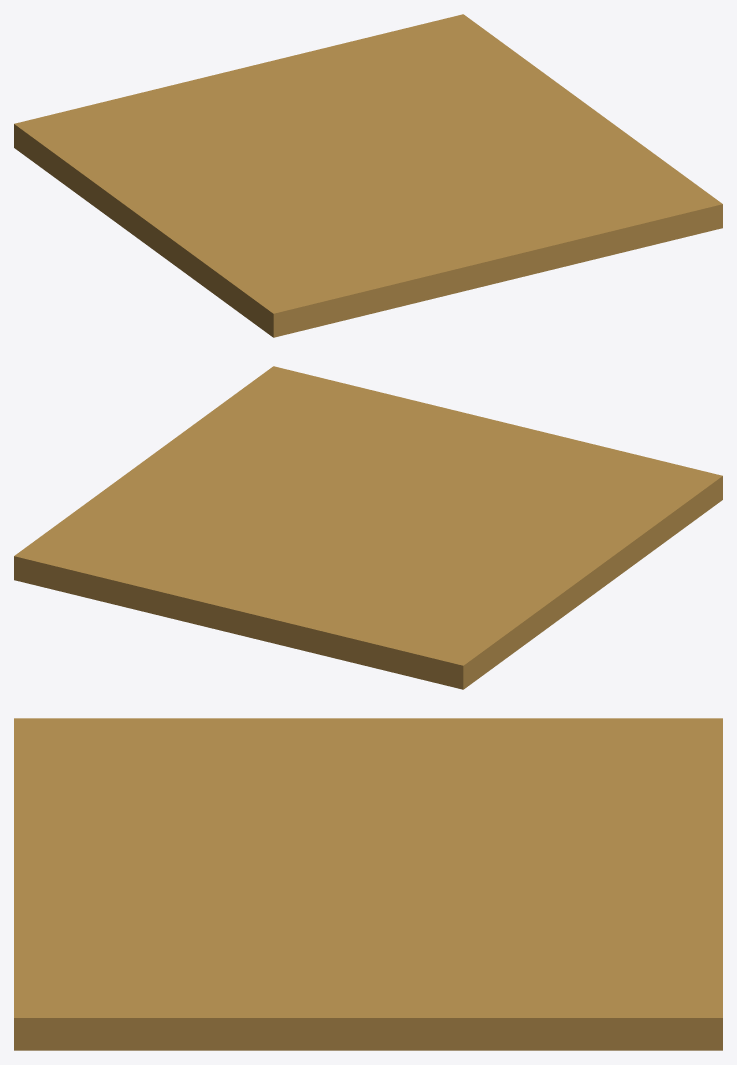
Rendered from Plateau_base_random.fbx.
The picture shows the model from 3 angles, top to bottom: view 1: azimuth 30°, elevation 25°; view 2: azimuth 150°, elevation 25°; view 3: azimuth 270°, elevation 25°; orthographic projection. The views are drawn at different scales.
Visible parts, largest first — view 1: plateaubaserandom; view 2: plateaubaserandom; view 3: plateaubaserandom.
Part boxes in pixels (x1,y1,x2,y2): plateaubaserandom: (14, 14, 722, 337); plateaubaserandom: (14, 366, 722, 689); plateaubaserandom: (14, 718, 722, 1050).
Bounding box in the file's own units: 254 × 12.98 × 254.
